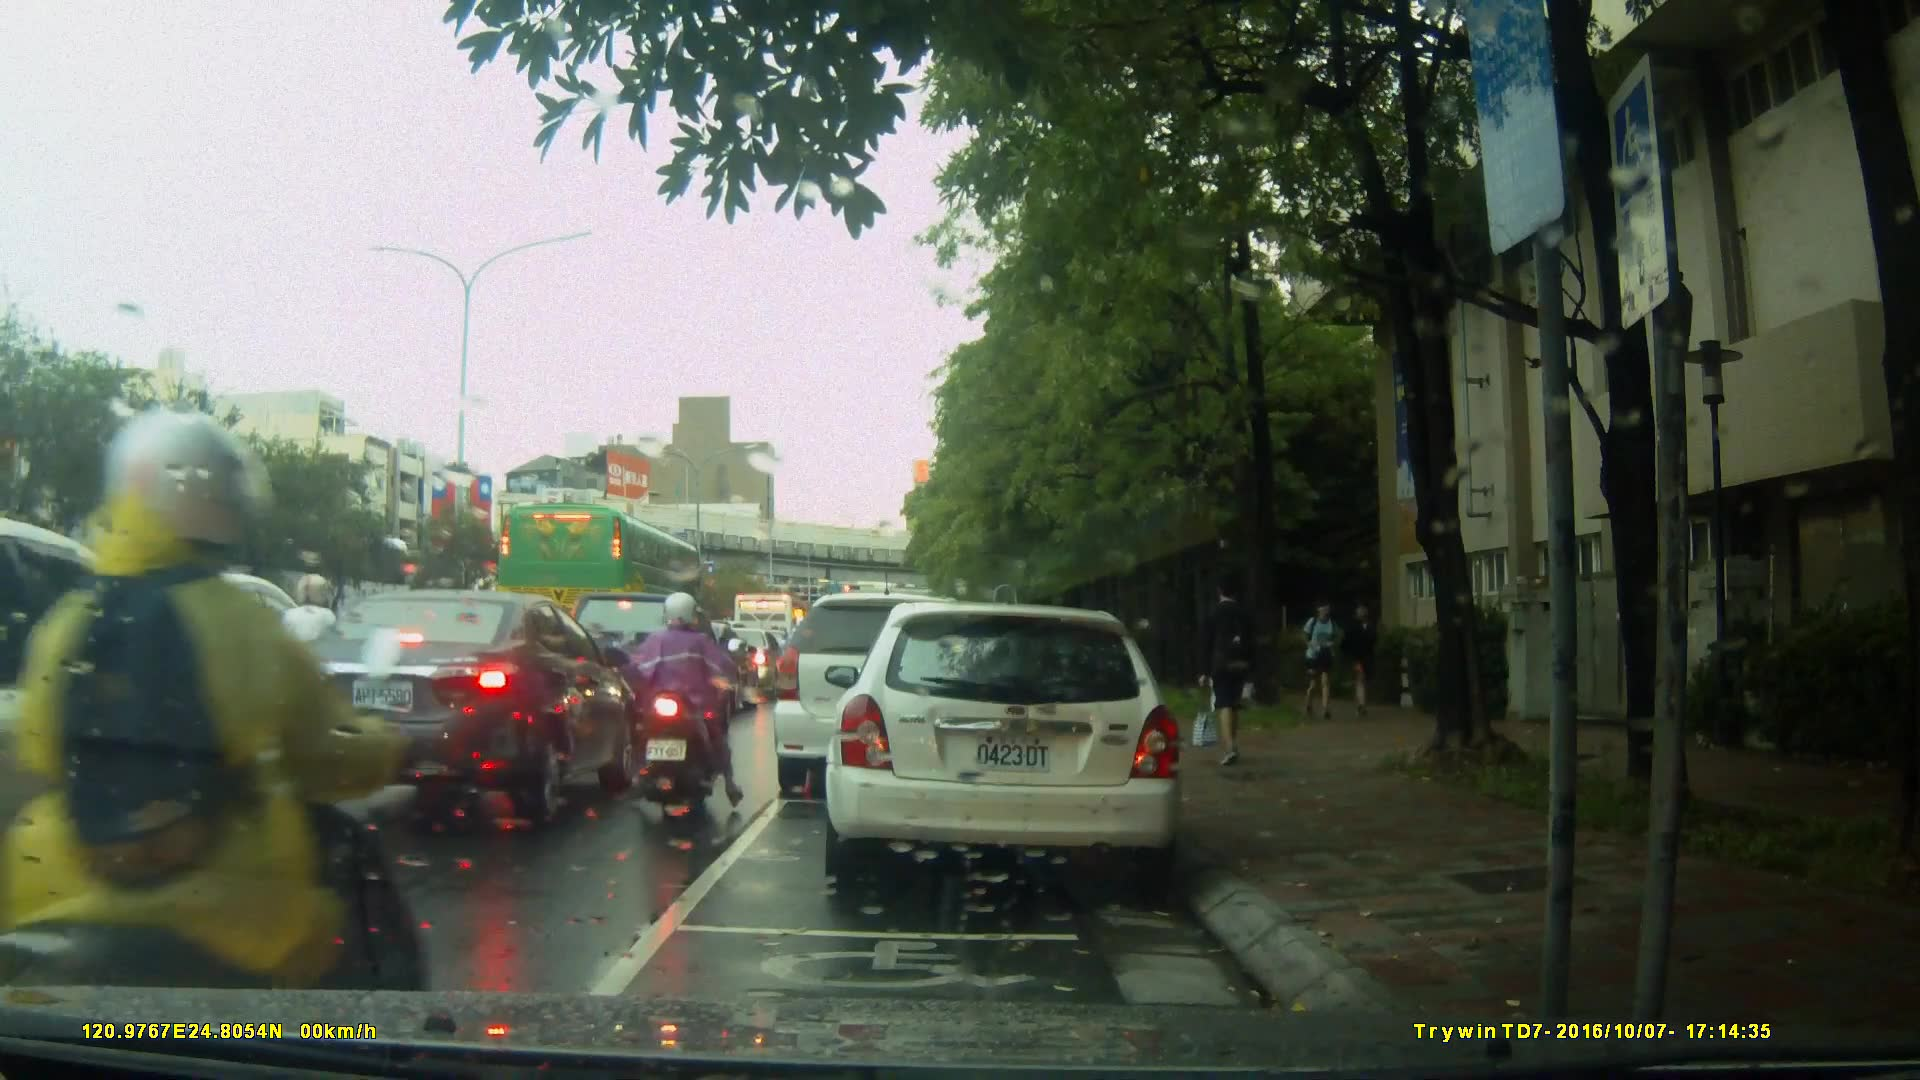pedestrian: (1194, 570, 1266, 768), (1301, 591, 1356, 722), (1338, 595, 1378, 715)
rider: (1, 409, 427, 1080), (641, 588, 740, 819), (779, 612, 816, 697)
vehicle: (1, 520, 345, 986), (831, 592, 1196, 897), (263, 587, 638, 826), (26, 564, 338, 761), (770, 592, 999, 799), (544, 573, 751, 751), (495, 502, 707, 644)
